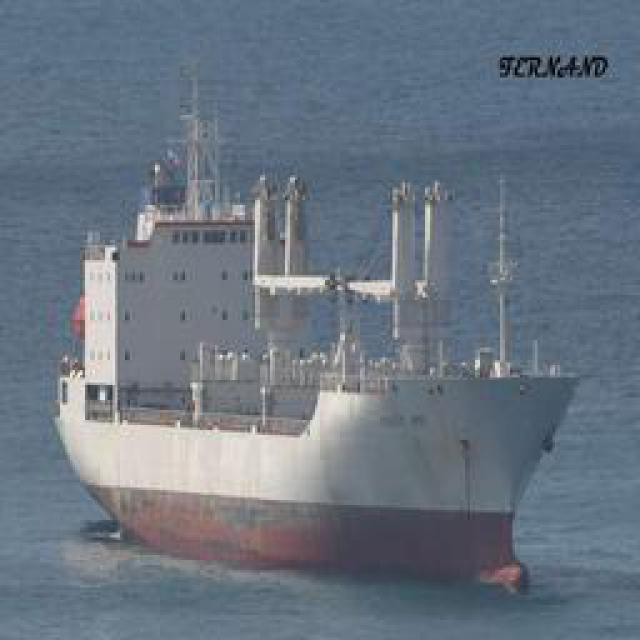Ship: (53, 60, 591, 583)
